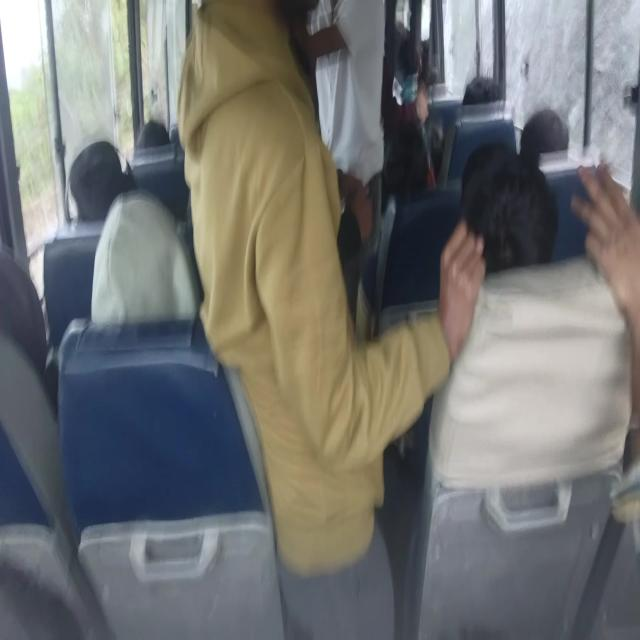person: (175, 1, 487, 636), (415, 142, 639, 636), (569, 158, 639, 460), (90, 188, 199, 326), (459, 140, 559, 274), (67, 139, 136, 223)
